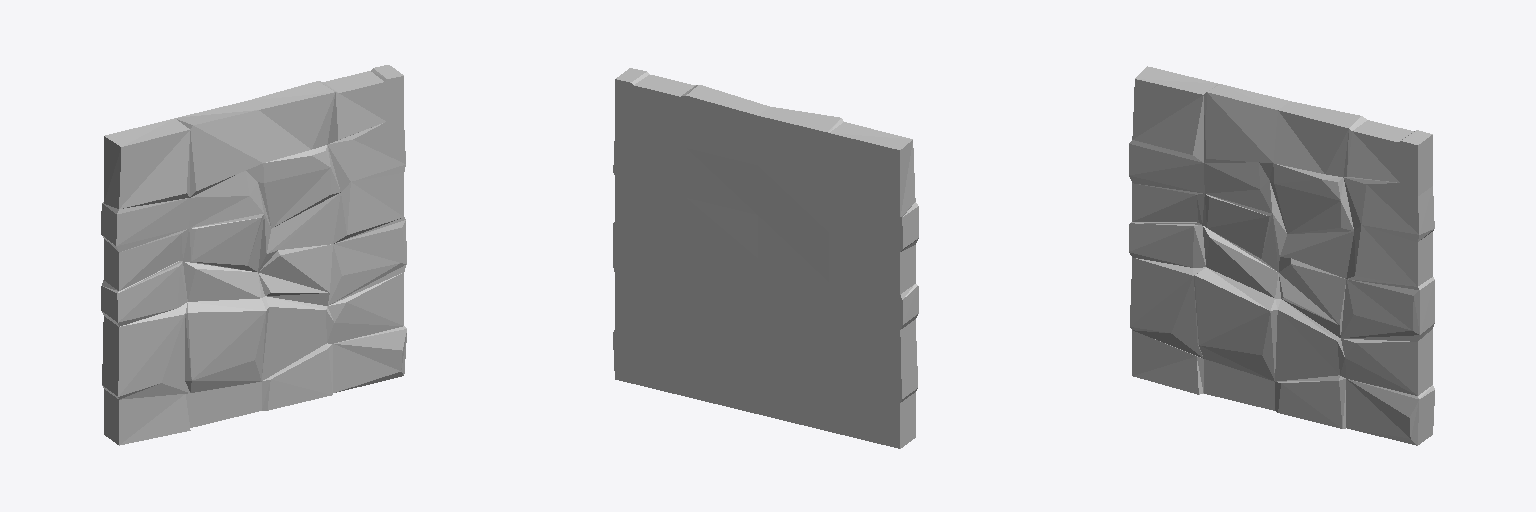
Rendered from muro 1.obj.
The picture shows the model from 3 angles: view 1: azimuth 30°, elevation 25°; view 2: azimuth 150°, elevation 25°; view 3: azimuth 330°, elevation 25°; orthographic projection.
Visible parts, largest first — view 1: muro_1 muro_1; view 2: muro_1 muro_1; view 3: muro_1 muro_1.
Boxes of the visible parts, <box> form: muro_1 muro_1: <box>101,65,406,445</box>; muro_1 muro_1: <box>613,68,918,448</box>; muro_1 muro_1: <box>1129,66,1434,445</box>.
Bounding box in the file's own units: 21.91 × 21.75 × 2.61.